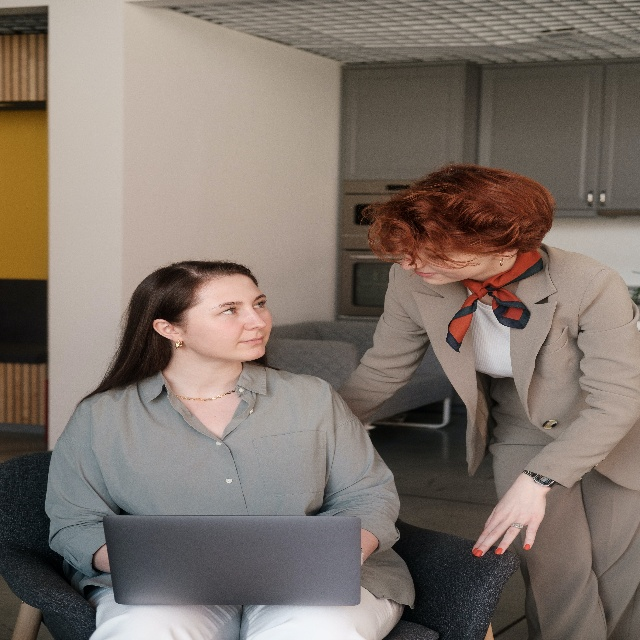Sin_guantes: (470, 477, 543, 566)
